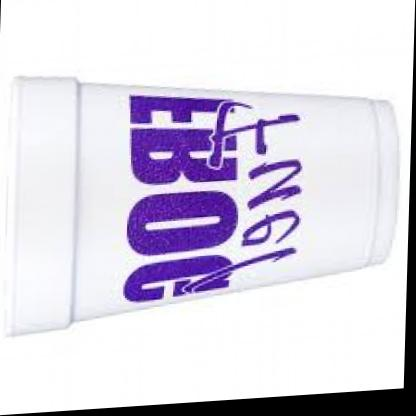Plastic: (1, 44, 411, 348)
